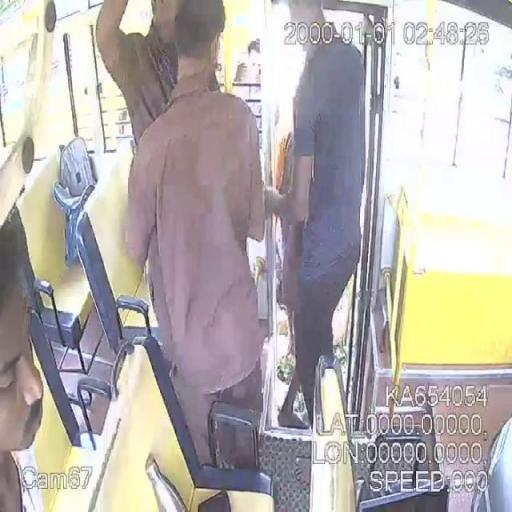persona: (94, 1, 269, 469), (271, 0, 368, 430), (0, 203, 46, 511)
